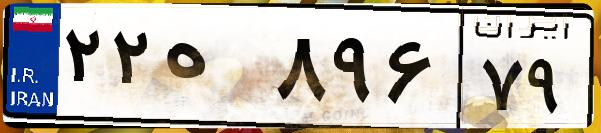2: (57, 26, 110, 100), (110, 28, 158, 98)
6: (385, 28, 445, 110)
7: (475, 38, 525, 113)
8: (270, 28, 330, 110)
9: (330, 28, 385, 110), (525, 38, 570, 115)
ه: (158, 20, 270, 120)
